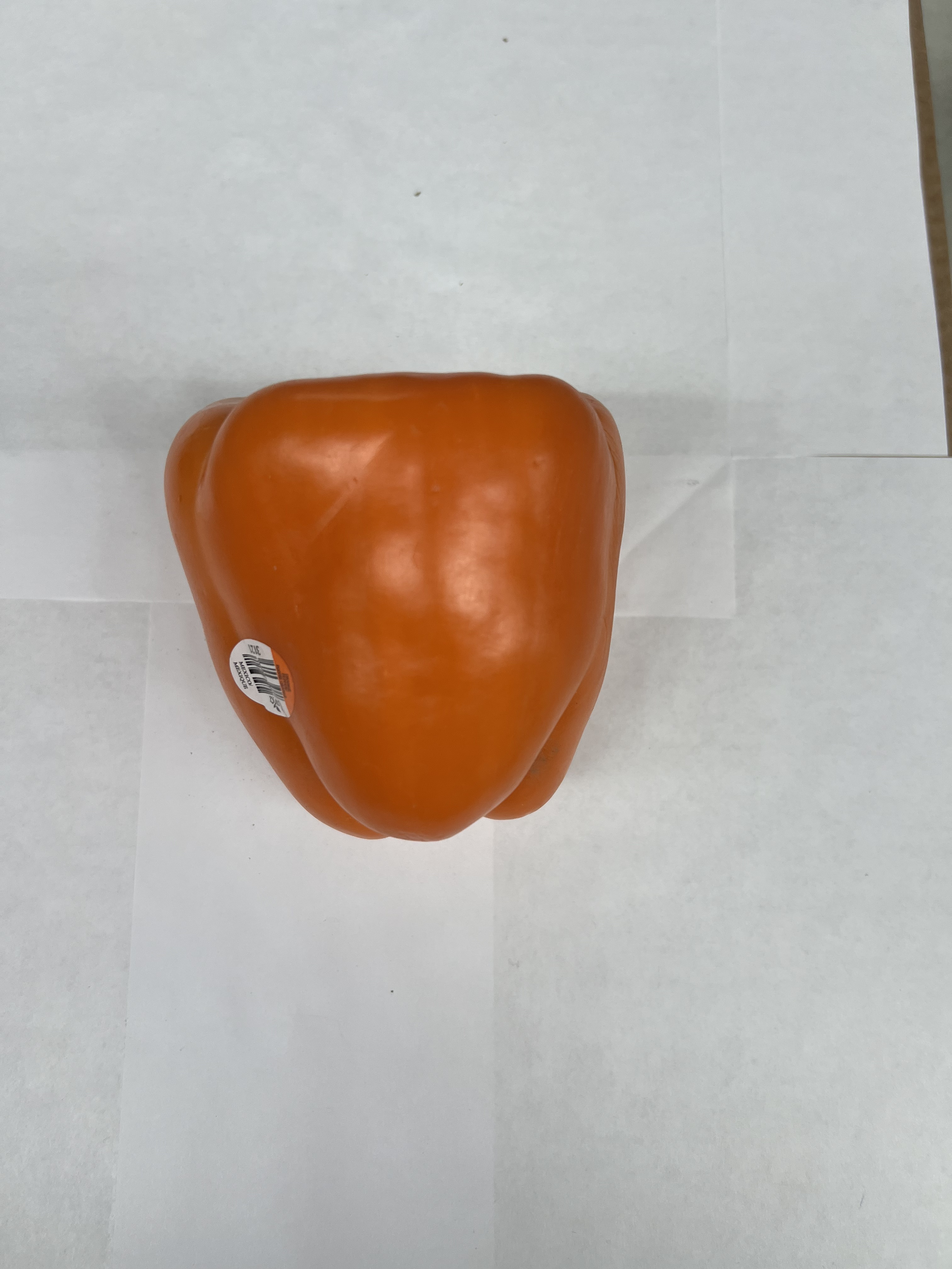produce: (154, 362, 633, 853)
